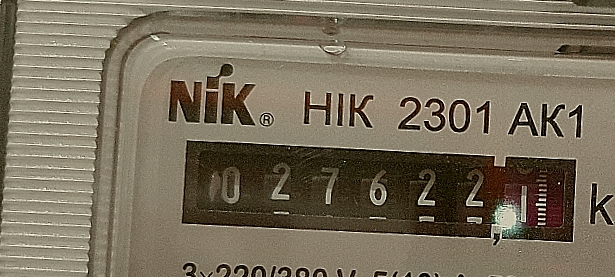0: (217, 162, 244, 206)
1: (514, 181, 532, 225)
2: (413, 165, 440, 208), (268, 159, 294, 203), (462, 166, 487, 209)
6: (365, 165, 390, 207)
7: (316, 164, 342, 208)
screen: (168, 125, 591, 254)
